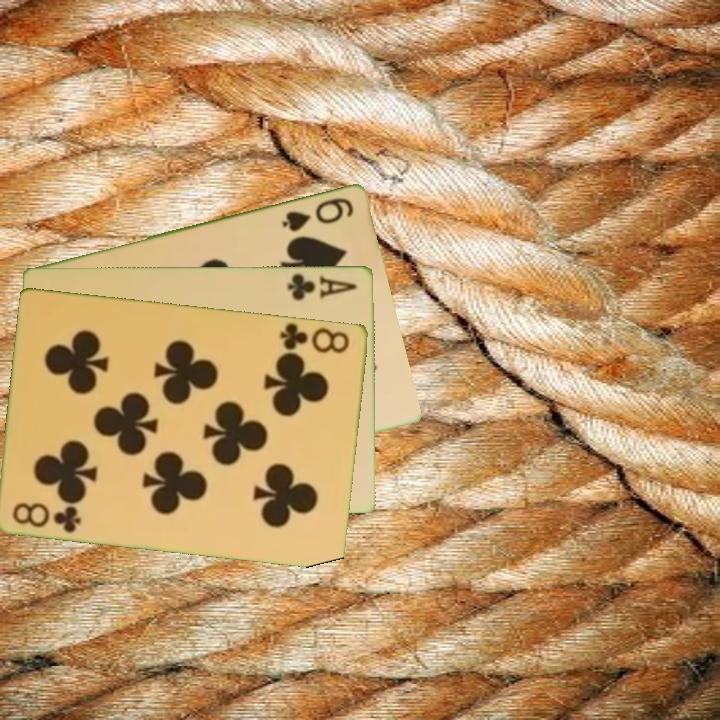6s: (278, 193, 357, 234)
8c: (276, 319, 353, 356), (10, 498, 85, 535)
Ac: (284, 269, 360, 303)
